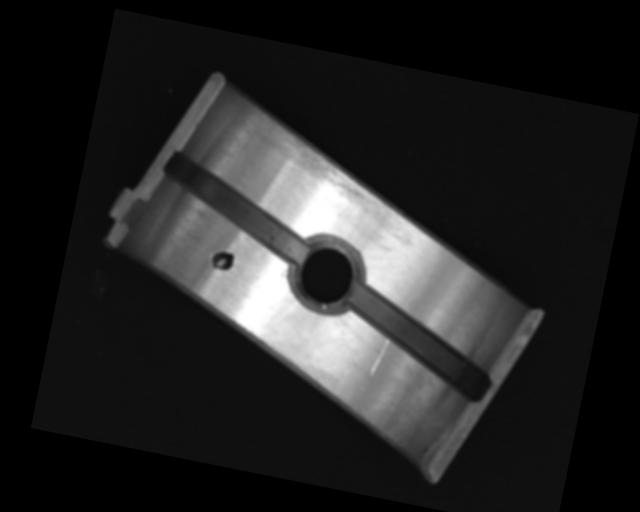blot: (207, 248, 236, 272)
gap: (336, 282, 501, 403), (152, 151, 320, 265)
hole: (285, 230, 367, 319)
nick: (369, 335, 389, 378)
scratch: (249, 114, 398, 209)
